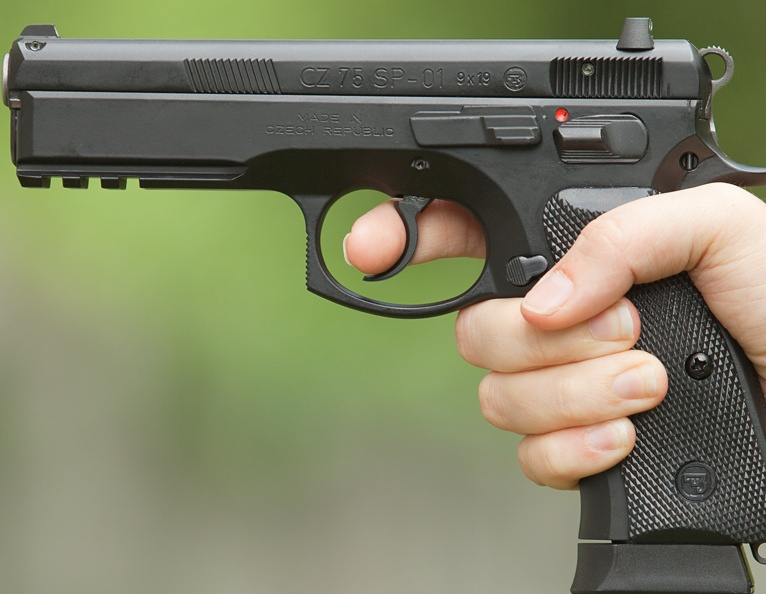pistol: (5, 6, 766, 591)
